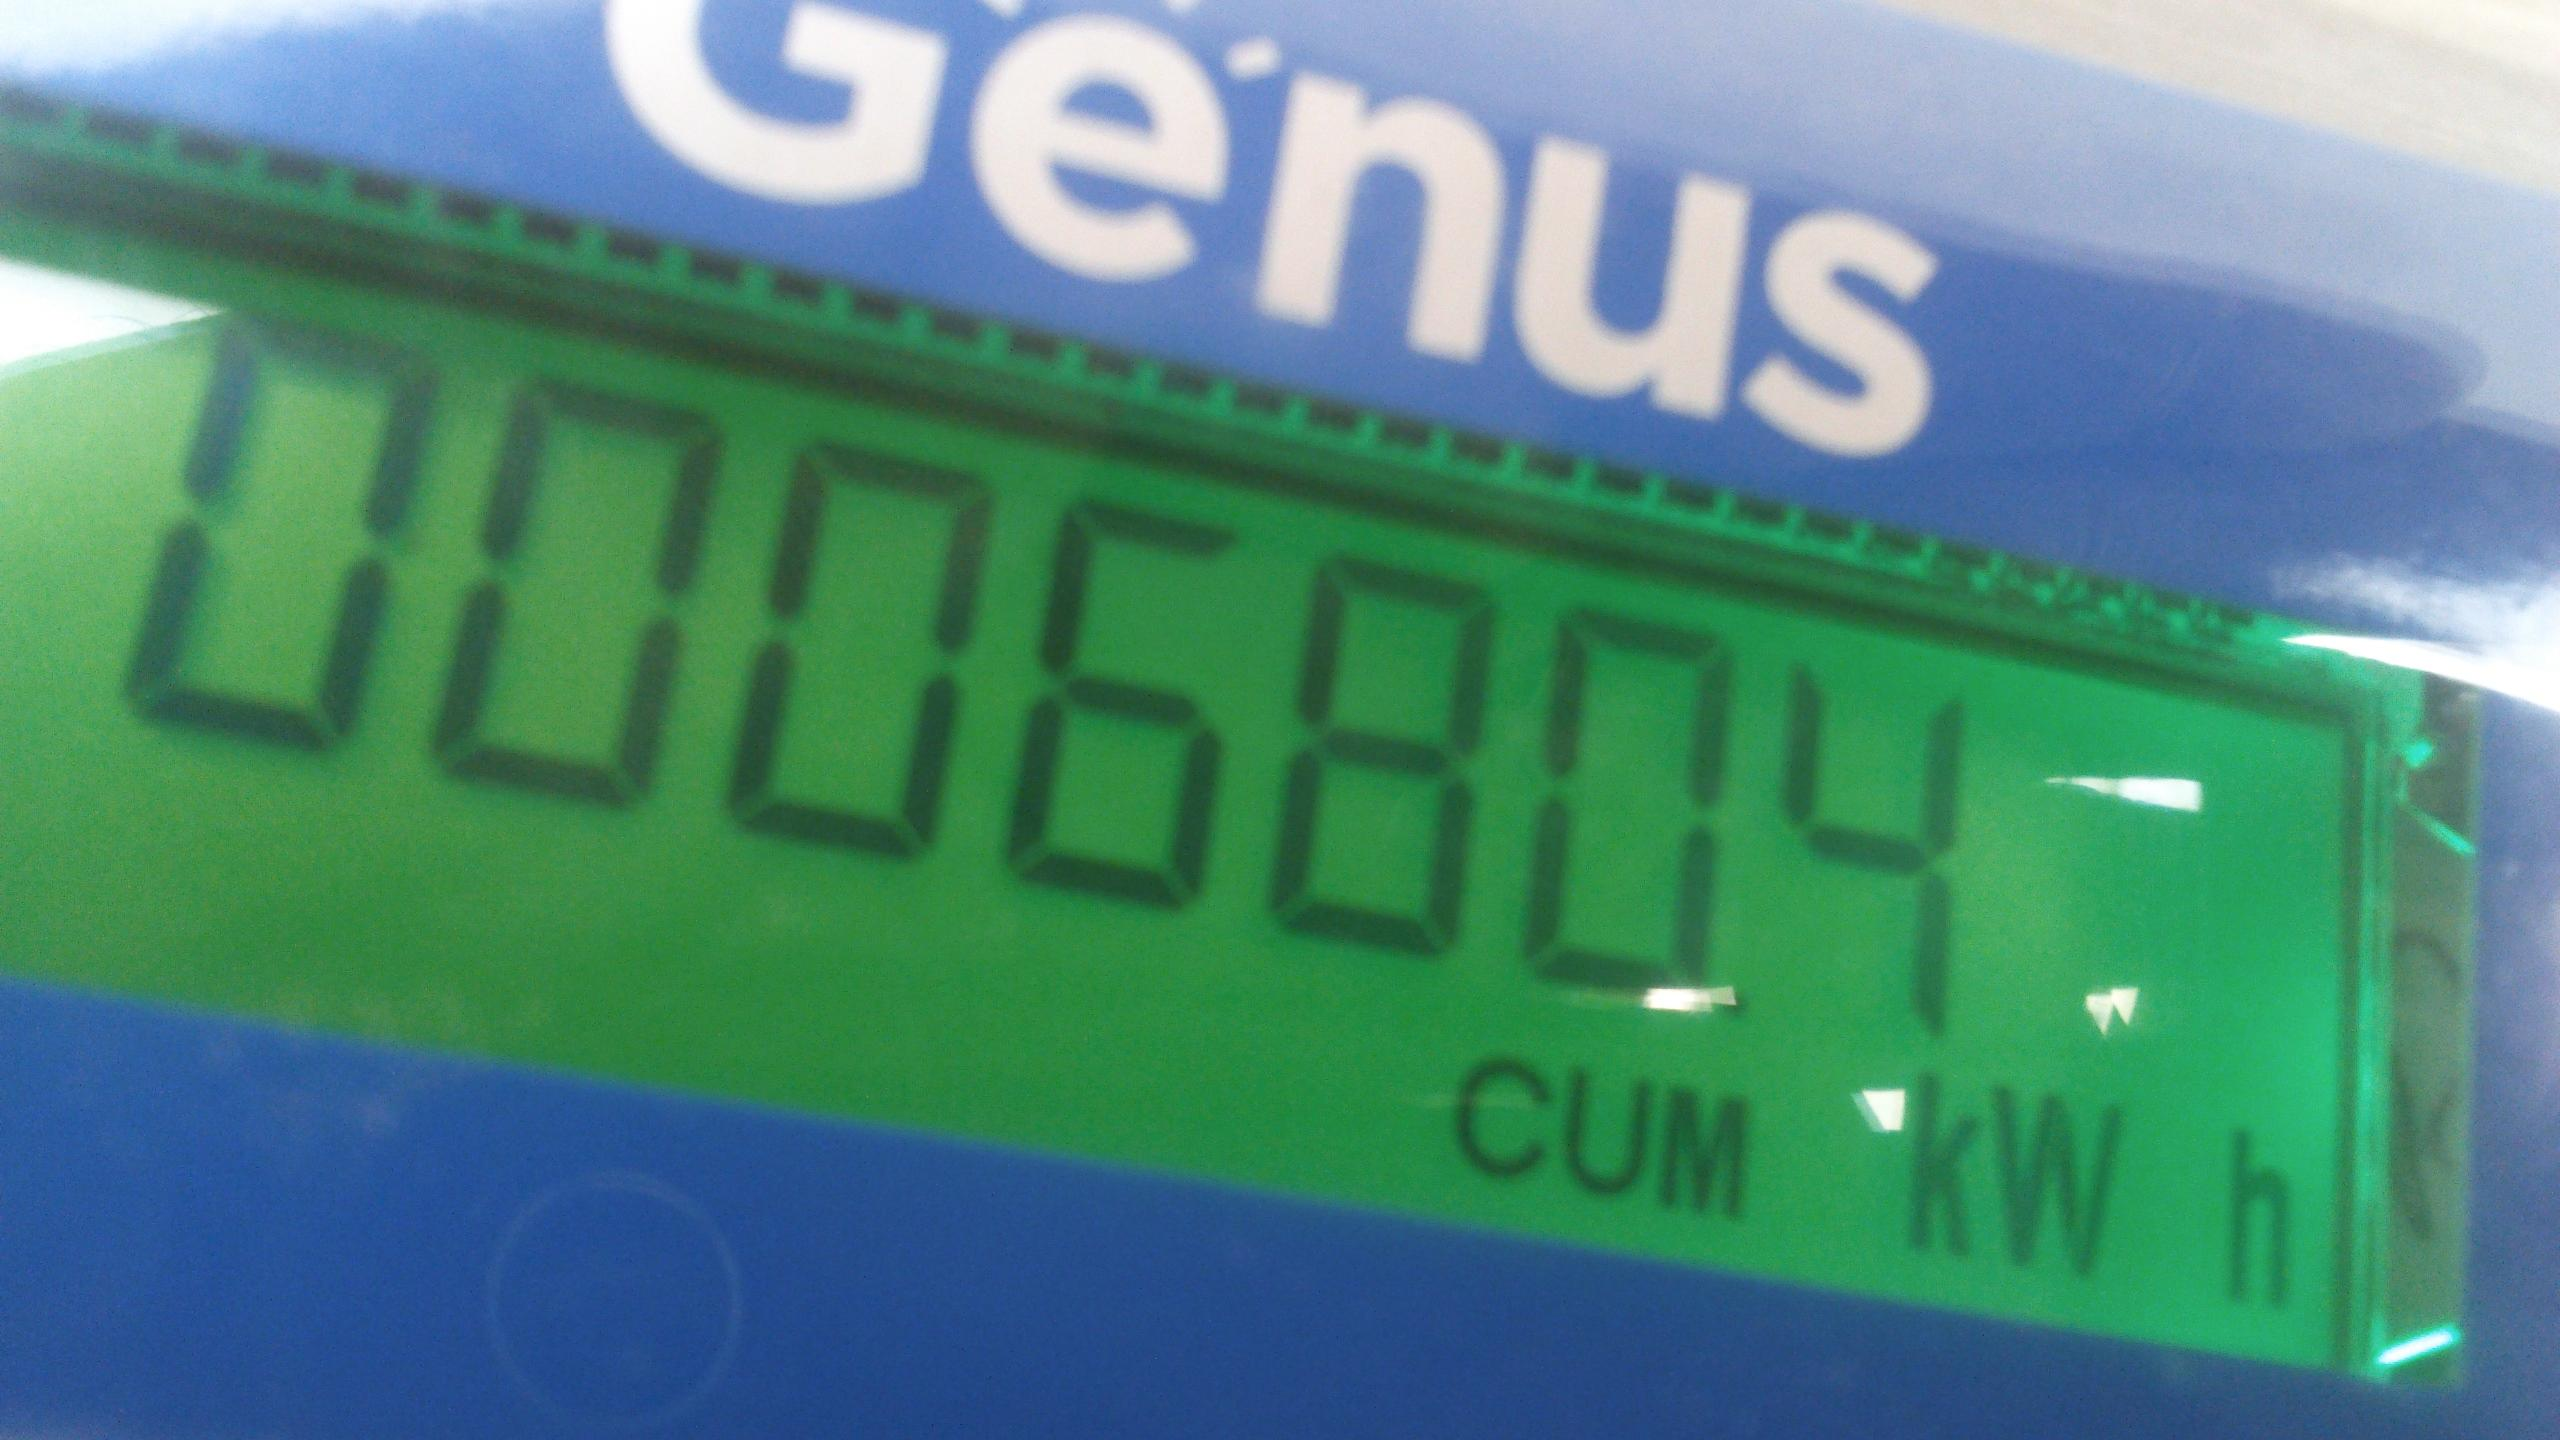.: (1901, 1058, 2321, 1310)
1: (69, 318, 476, 756), (382, 389, 761, 812), (702, 433, 1043, 830), (1507, 584, 1778, 988)
5: (1778, 628, 2006, 1025)
7: (988, 468, 1292, 925)
9: (1250, 538, 1523, 972)
